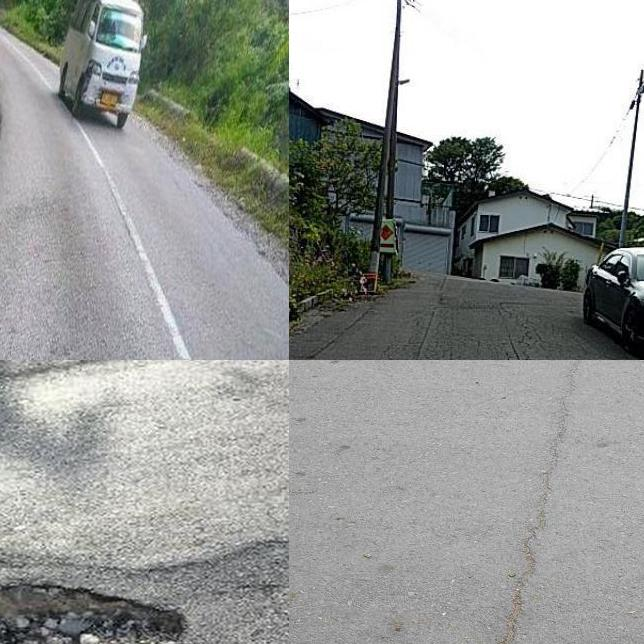Lubang: (0, 582, 184, 644)
Memanjang: (487, 360, 607, 644)
